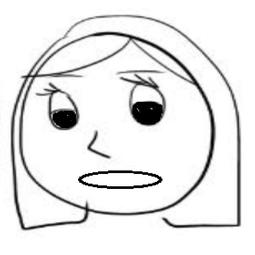eye: (117, 72, 170, 126), (34, 81, 80, 133)
eyebrow: (48, 70, 87, 81), (116, 68, 168, 75)
open_mouth: (75, 164, 167, 196)
pointy_nose: (87, 127, 111, 159)
